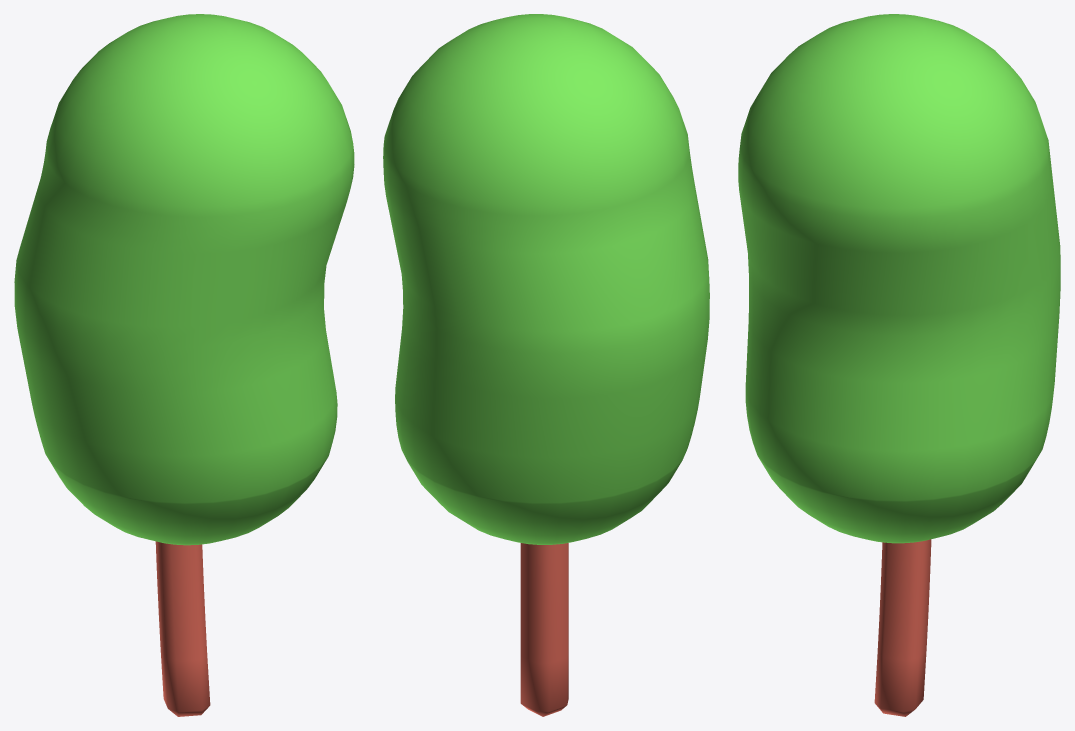
File: Tree3.fbx
3 views of the same model, side by side, from view 1: azimuth 30°, elevation 25°; view 2: azimuth 150°, elevation 25°; view 3: azimuth 270°, elevation 25° (orthographic).
Parts seen in each view (by area): view 1: Tree3; view 2: Tree3; view 3: Tree3.
Boxes of the visible parts, left/top/right/bottom form: Tree3: left=14, top=14, right=354, bottom=716; Tree3: left=383, top=14, right=709, bottom=716; Tree3: left=738, top=14, right=1060, bottom=716.
Size of the model in its own units: 518 by 1217 by 547.
